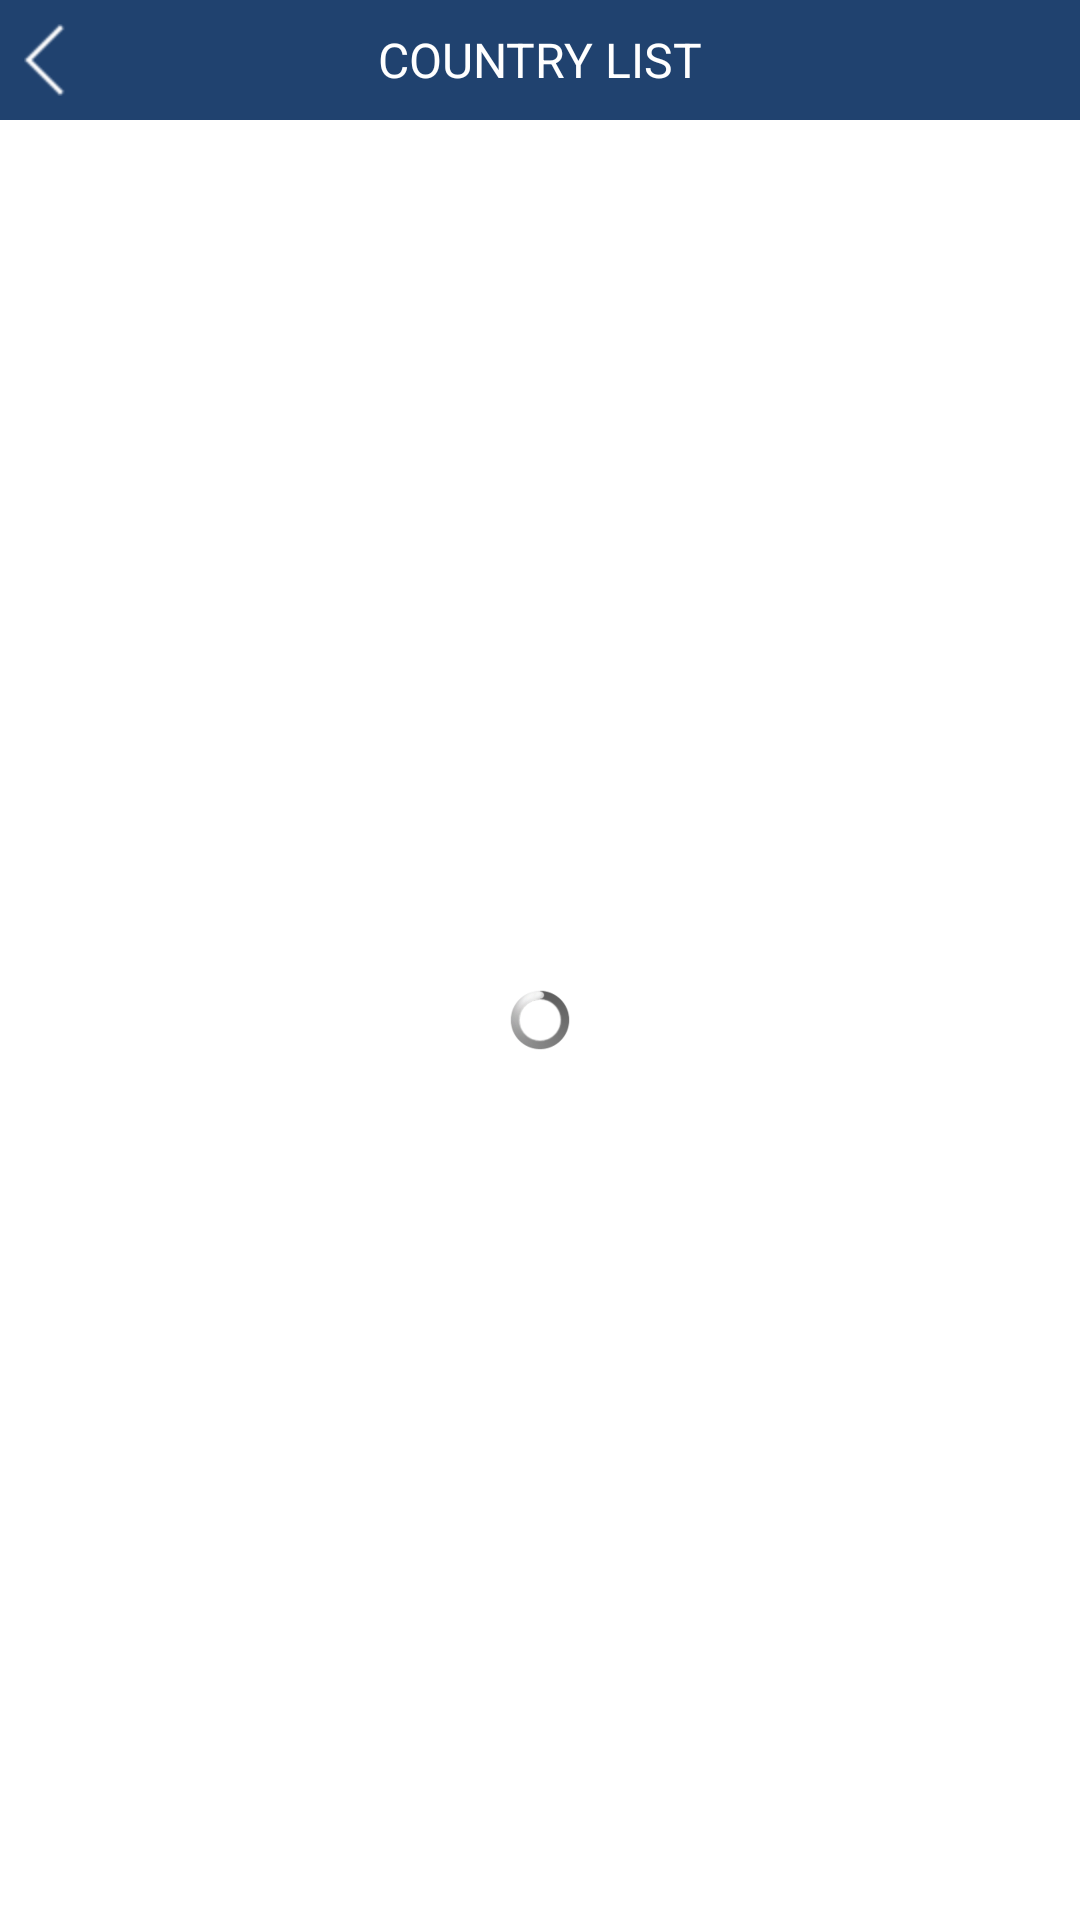

Icons on this 1080w x 1920h Android screen, each with its box as (x1, y1, x2, y2):
back: (24, 24, 64, 96)
